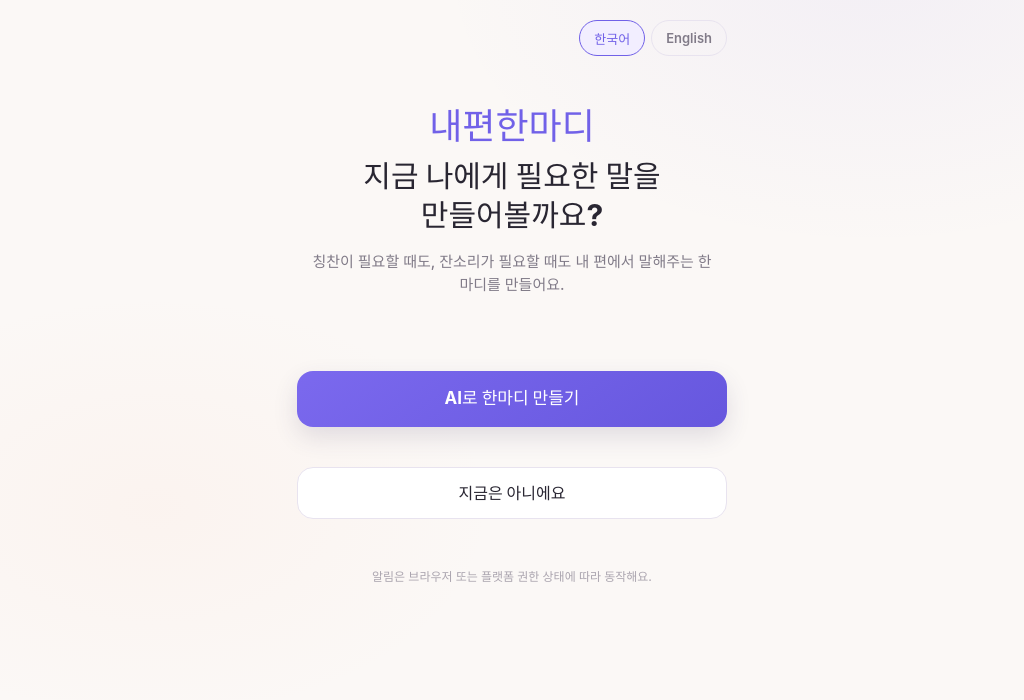
it: 내편한마디 v0.5: AI candidate flow + local persistence + i18n › renders AI candidate screen labels in both locales
This screenshot has width=1024, height=700.
Click the button "AI로 한마디 만들기" at (512, 399), box left=297, top=371, right=727, bottom=427
(page scrolled)
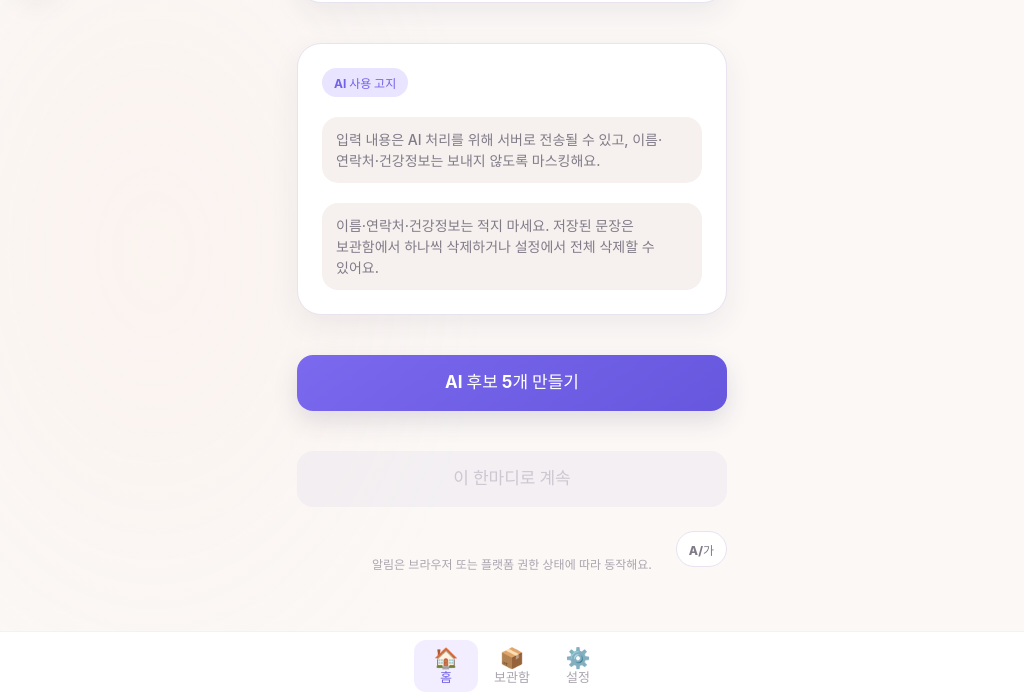
Now the text "입력 내용은 AI 처리를 위해 서버로 전송될 수 있고, 이름·연락처·건강정보는 보내지 않도록 마스킹해요." is shown, box left=322, top=117, right=702, bottom=183
Now the button "AI 후보 5개 만들기" is shown, box left=297, top=355, right=727, bottom=411
Click the button "A/가" at (701, 549), box left=676, top=531, right=727, bottom=567
(page scrolled)
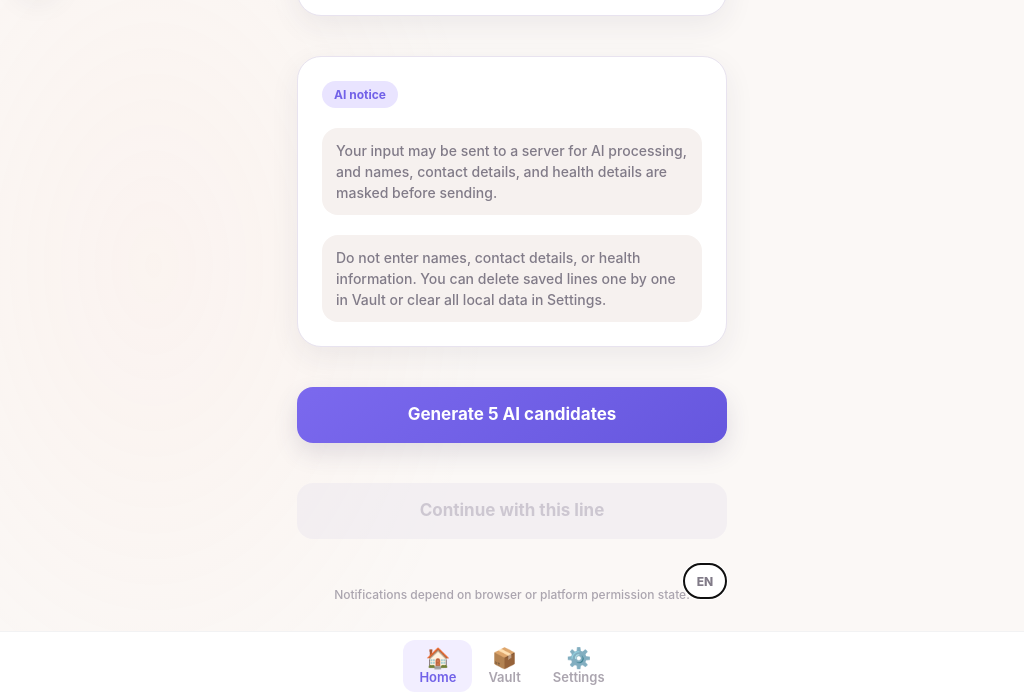
Now the button "Generate 5 AI candidates" is shown, box left=297, top=387, right=727, bottom=443
